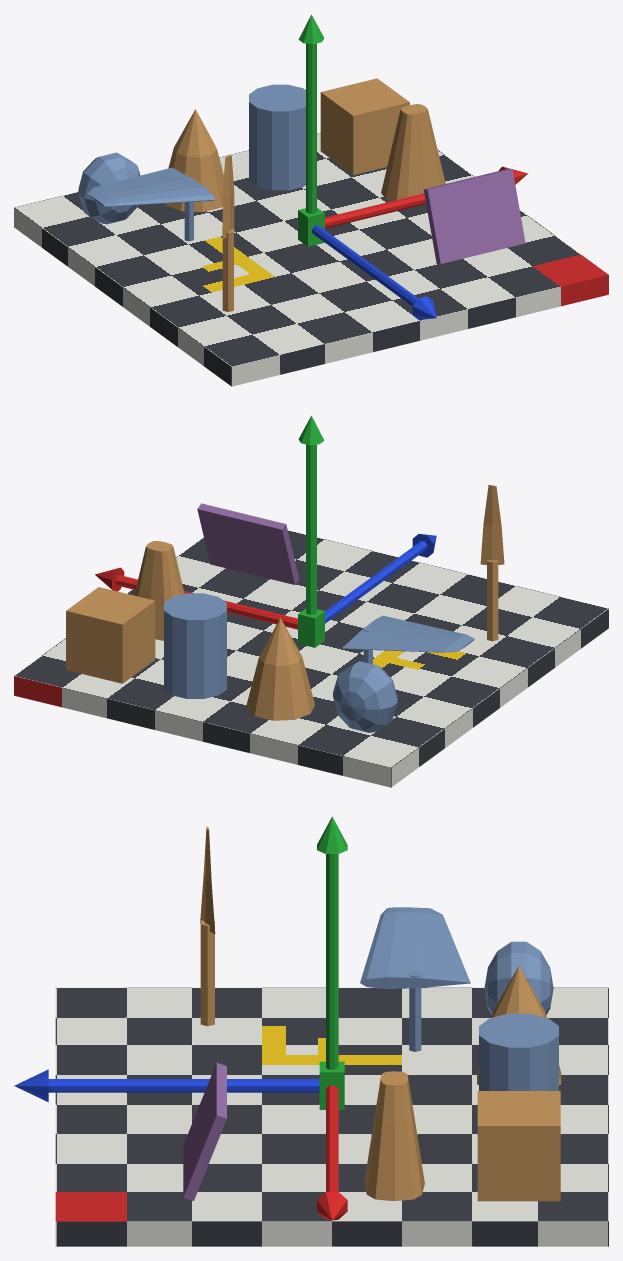
Rendered from calib_card.glb.
The picture shows the model from 3 angles, top to bottom: view 1: azimuth 30°, elevation 25°; view 2: azimuth 150°, elevation 25°; view 3: azimuth 270°, elevation 25°; orthographic projection. The views are drawn at different scales.
Visible parts, largest first — view 1: plate, $lid, p_box, p_cylinder, p_loft, p_wing, axis_y, p_cone, p_ellipsoid, axis_z, p_blade, axis_x; view 2: plate, p_box, p_cylinder, $lid, p_cone, p_ellipsoid, p_wing, axis_y, p_loft, p_blade, axis_z, axis_x; view 3: plate, p_box, p_wing, p_cylinder, p_loft, axis_y, axis_z, $lid, p_ellipsoid, p_blade, axis_x, p_cone.
Part boxes in pixels (<box>): plate: <box>14,133,608,386</box>; $lid: <box>423,168,525,263</box>; p_box: <box>320,78,409,174</box>; p_cylinder: <box>249,84,305,190</box>; p_loft: <box>381,104,445,201</box>; p_wing: <box>88,167,215,241</box>; axis_y: <box>298,14,324,246</box>; p_cone: <box>164,109,223,212</box>; p_ellipsoid: <box>78,152,140,224</box>; axis_z: <box>312,225,436,319</box>; p_blade: <box>222,155,234,311</box>; axis_x: <box>325,166,527,228</box>; plate: <box>14,530,608,787</box>; p_box: <box>66,587,155,683</box>; p_cylinder: <box>164,593,226,698</box>; $lid: <box>197,503,299,584</box>; p_cone: <box>246,618,314,720</box>; p_ellipsoid: <box>333,661,397,732</box>; p_wing: <box>342,615,474,664</box>; axis_y: <box>298,415,324,647</box>; p_loft: <box>134,541,184,640</box>; p_blade: <box>480,485,504,641</box>; axis_z: <box>325,534,436,623</box>; axis_x: <box>95,567,297,629</box>; plate: <box>55,987,608,1246</box>; p_box: <box>477,1091,560,1201</box>; p_wing: <box>360,907,470,1051</box>; p_cylinder: <box>479,1013,558,1090</box>; p_loft: <box>364,1071,424,1200</box>; axis_y: <box>317,816,347,1109</box>; axis_z: <box>14,1069,319,1102</box>; $lid: <box>183,1063,226,1200</box>; p_ellipsoid: <box>484,941,553,1015</box>; p_blade: <box>200,826,215,1026</box>; axis_x: <box>317,1085,347,1220</box>; p_cone: <box>477,966,561,1084</box>.
Bounding box in the file's own units: 4.3 × 2.5 × 4.3.
Materials: 1 (1 with a texture image).
